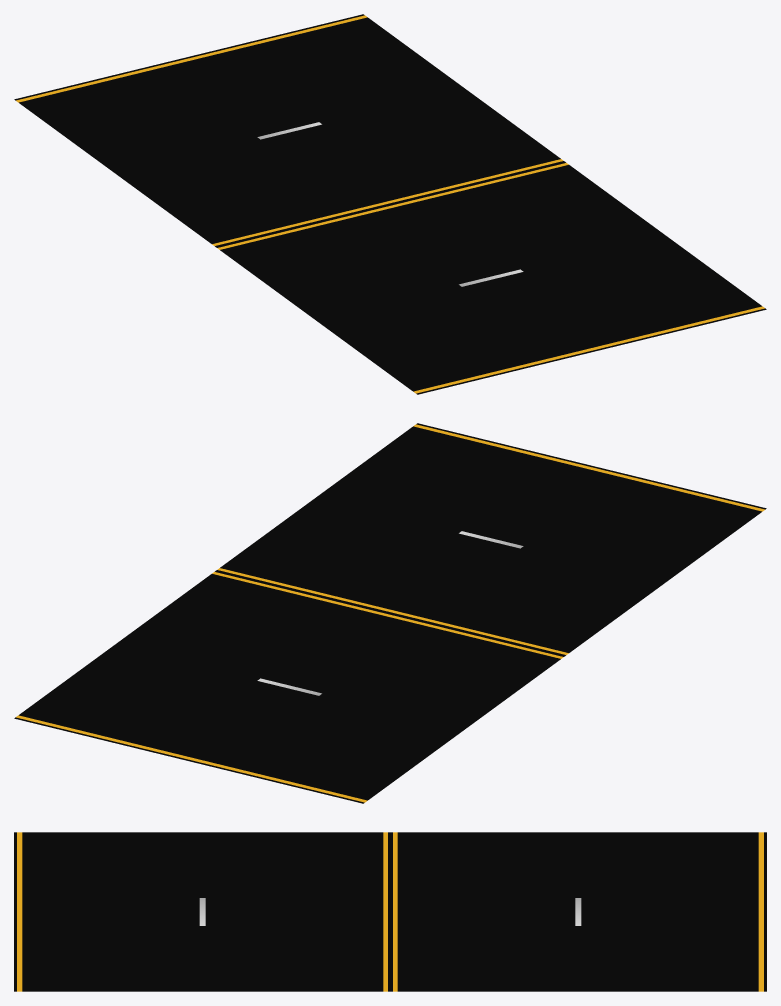
File: road.fbx
The picture shows the model from 3 angles, top to bottom: view 1: azimuth 30°, elevation 25°; view 2: azimuth 150°, elevation 25°; view 3: azimuth 270°, elevation 25°; orthographic projection. The views are drawn at different scales.
Parts seen in each view (by area): view 1: road; view 2: road; view 3: road.
Boxes of the visible parts, bbox=[...] form: road: bbox=[14, 14, 766, 394]; road: bbox=[14, 423, 766, 803]; road: bbox=[14, 832, 766, 991].
Size of the model in its own units: 3 by 0 by 6.
